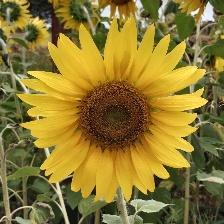sunflower: (17, 12, 210, 207)
